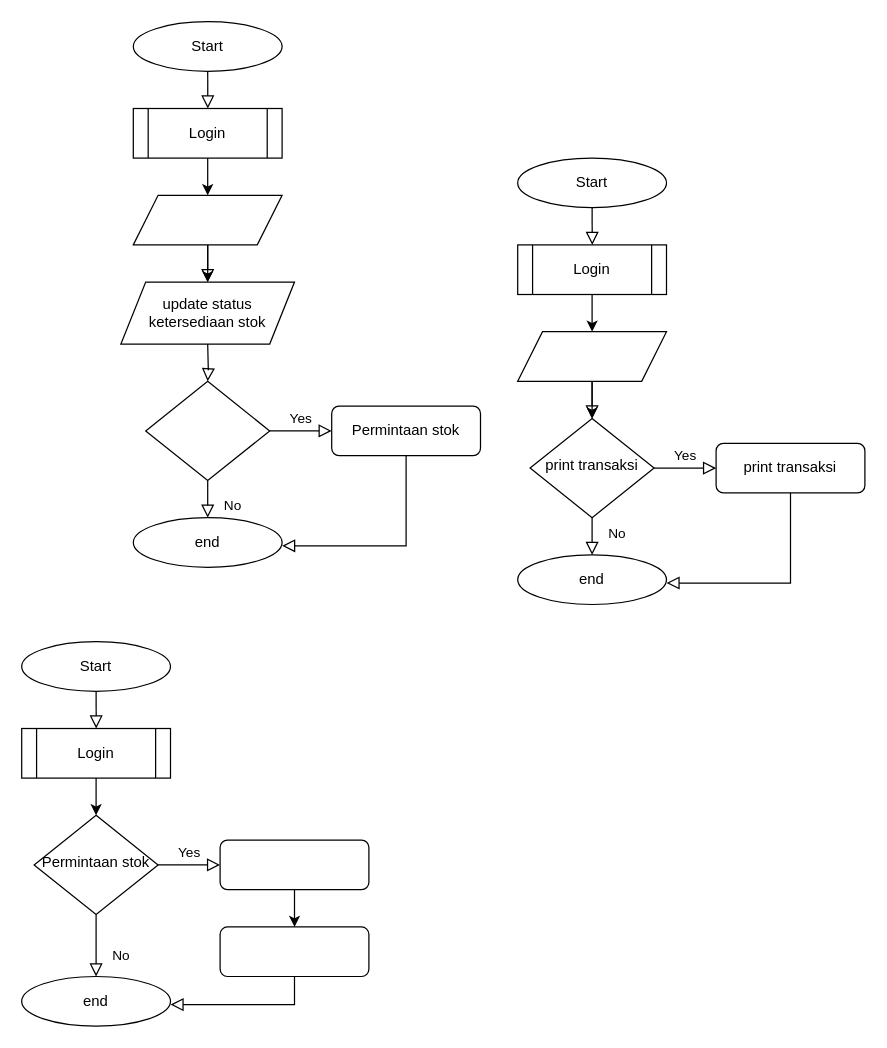
Image size: 887x1048. Some labels were removed from this diagram. The shapes that lost their labels are listed below. From the top down, each one's centre as x and y in pixels, then its label:
point 207,219: Input menu Baru
point 591,355: Output Transaksi Harian
point 207,430: stok < minimun
point 294,864: Tambahkan stok
point 294,951: Konfirmasi stok
